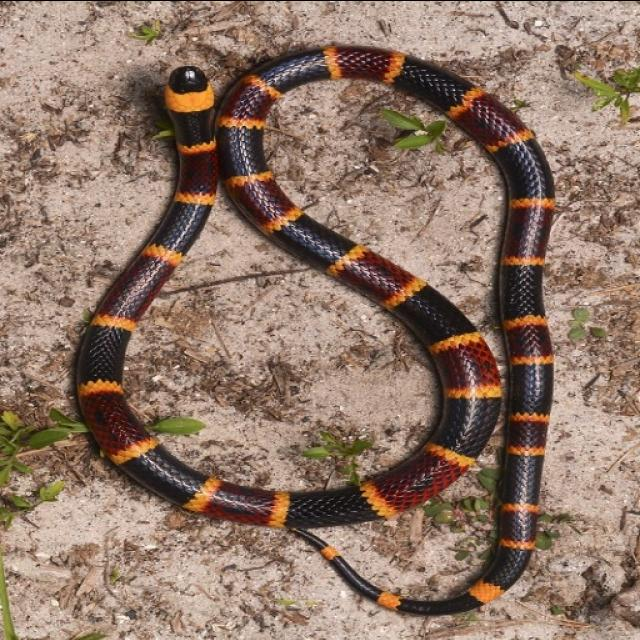snake: (72, 27, 565, 615)
